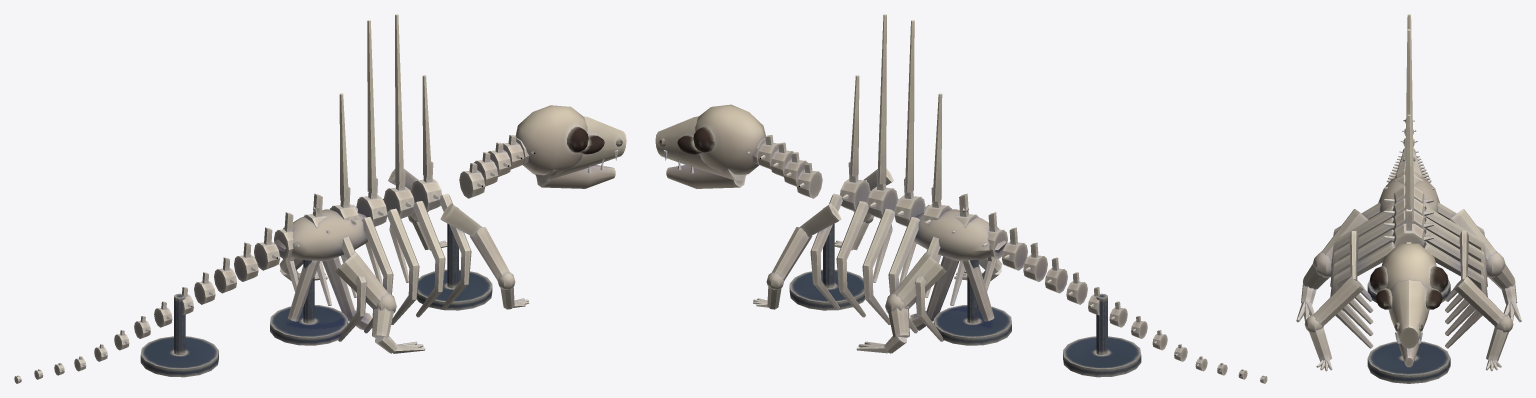
Rendered from skeleton_dimetrodon.glb.
3 views of the same model, side by side, from view 1: azimuth 30°, elevation 25°; view 2: azimuth 150°, elevation 25°; view 3: azimuth 270°, elevation 25° (orthographic). The views are drawn at different scales.
Parts seen in each view (by area): view 1: Mount, Legs, Back, Ribs, Skull, Tail, Arms, Neck, Jaw; view 2: Mount, Legs, Back, Ribs, Skull, Tail, Arms, Neck, Jaw; view 3: Ribs, Skull, Arms, Legs, Back, Mount, Tail, Jaw.
Boxes of the visible parts, bbox=[...] form: Mount: bbox=[140, 207, 492, 377]; Legs: bbox=[274, 209, 425, 353]; Back: bbox=[302, 14, 441, 233]; Ribs: bbox=[285, 190, 471, 341]; Skull: bbox=[515, 105, 626, 180]; Tail: bbox=[14, 212, 299, 383]; Arms: bbox=[388, 169, 529, 309]; Neck: bbox=[459, 135, 535, 198]; Jaw: bbox=[536, 161, 615, 188]; Mount: bbox=[789, 207, 1141, 377]; Legs: bbox=[856, 209, 1006, 353]; Back: bbox=[840, 14, 979, 233]; Ribs: bbox=[810, 190, 996, 341]; Skull: bbox=[655, 104, 765, 180]; Tail: bbox=[982, 212, 1267, 383]; Arms: bbox=[753, 168, 893, 309]; Neck: bbox=[746, 135, 822, 198]; Jaw: bbox=[666, 161, 745, 188]; Ribs: bbox=[1330, 202, 1487, 348]; Skull: bbox=[1370, 243, 1448, 348]; Arms: bbox=[1304, 231, 1513, 371]; Legs: bbox=[1296, 176, 1521, 322]; Back: bbox=[1384, 14, 1433, 246]; Mount: bbox=[1367, 156, 1450, 383]; Tail: bbox=[1386, 119, 1431, 182]; Jaw: bbox=[1397, 338, 1420, 367].
Bounding box in the file's own units: 3.55 × 1.72 × 1.09.
1 material, 1 textured.
